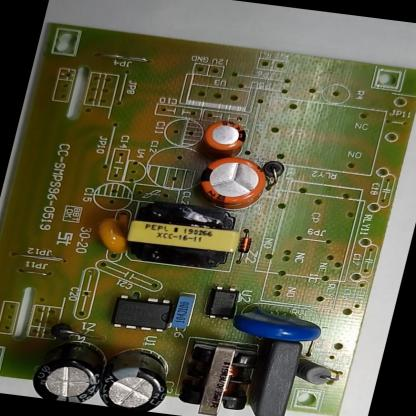Cap1: (182, 148, 278, 216)
Cap2: (191, 112, 255, 160)
Cap3: (86, 340, 180, 413)
Cap4: (23, 330, 117, 405)
MOSFET: (104, 288, 182, 336)
Mov: (224, 299, 330, 347)
Resistor: (294, 354, 347, 392)
Transformer: (108, 193, 253, 275), (170, 335, 265, 416)
